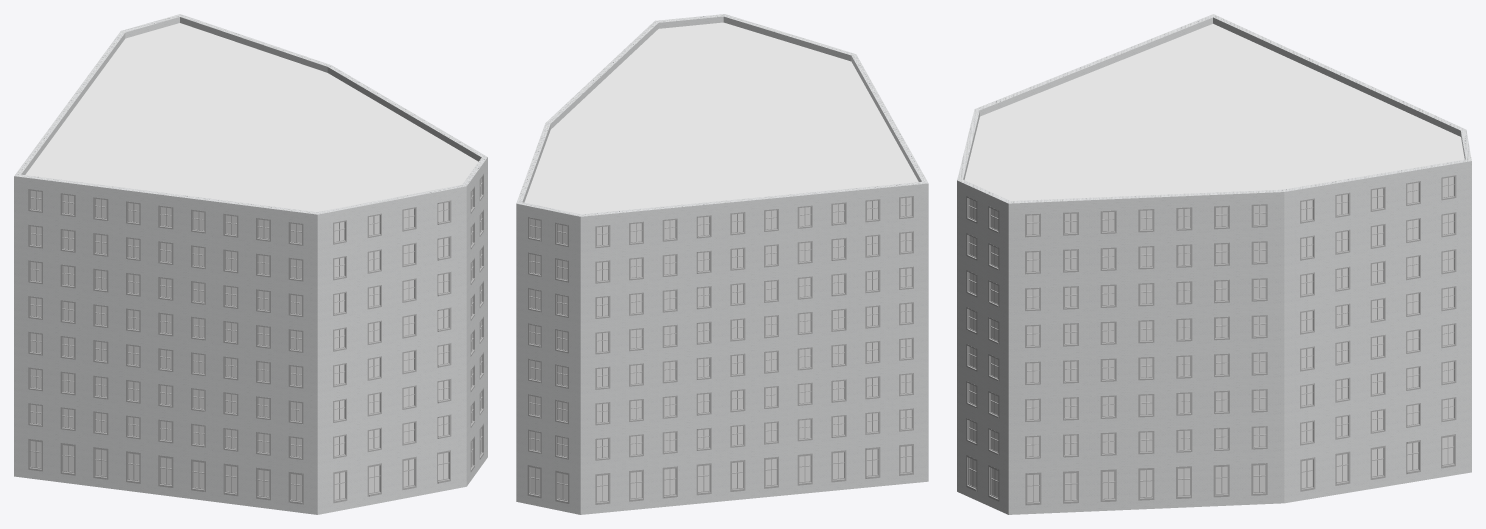
File: clohbx6ic03994p02lxd4lg8l_0.glb
The picture shows the model from 3 angles, left to right: view 1: azimuth 30°, elevation 25°; view 2: azimuth 150°, elevation 25°; view 3: azimuth 270°, elevation 25°; orthographic projection. The views are drawn at different scales.
Parts seen in each view (by area): view 1: mesh_Brick, mesh_CityEnginePBRShader, mesh_Rim, mesh_Glass; view 2: mesh_Brick, mesh_CityEnginePBRShader, mesh_Rim, mesh_Glass; view 3: mesh_Brick, mesh_CityEnginePBRShader, mesh_Rim, mesh_Glass.
Part boxes in pixels (x1,y1,x2,y2): mesh_Brick: (14, 14, 487, 514); mesh_CityEnginePBRShader: (25, 23, 478, 211); mesh_Rim: (28, 174, 483, 504); mesh_Glass: (30, 178, 481, 500); mesh_Brick: (516, 14, 928, 514); mesh_CityEnginePBRShader: (524, 22, 918, 214); mesh_Rim: (527, 196, 913, 504); mesh_Glass: (530, 197, 911, 501); mesh_Brick: (957, 14, 1471, 514); mesh_CityEnginePBRShader: (964, 24, 1464, 200); mesh_Rim: (966, 175, 1456, 505); mesh_Glass: (969, 177, 1453, 501).
Size of the model in its own units: 39.01 by 29.86 by 44.74.
Materials: 4 (1 with a texture image).
